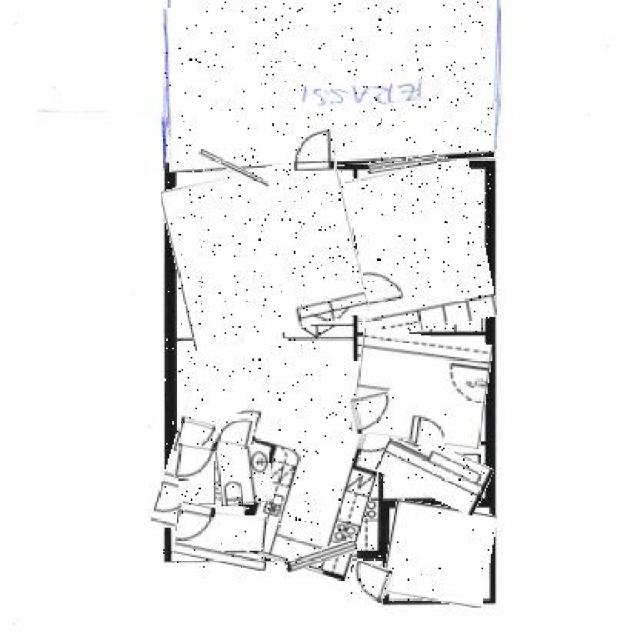door: (349, 392, 398, 431), (346, 562, 391, 602), (294, 128, 334, 170), (177, 503, 214, 546), (176, 444, 216, 482), (216, 416, 256, 450), (416, 414, 446, 446)
window: (172, 546, 266, 566), (284, 543, 358, 568), (197, 157, 271, 180), (369, 157, 440, 172)
zone: (163, 0, 492, 168), (163, 329, 394, 568), (168, 162, 362, 343), (351, 163, 491, 335), (354, 332, 489, 446), (384, 503, 494, 603), (378, 434, 492, 506), (177, 512, 266, 550), (217, 448, 272, 506), (180, 449, 217, 505)
